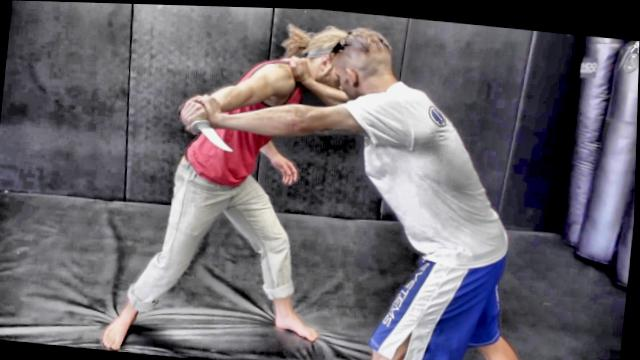knife: (171, 97, 242, 155)
